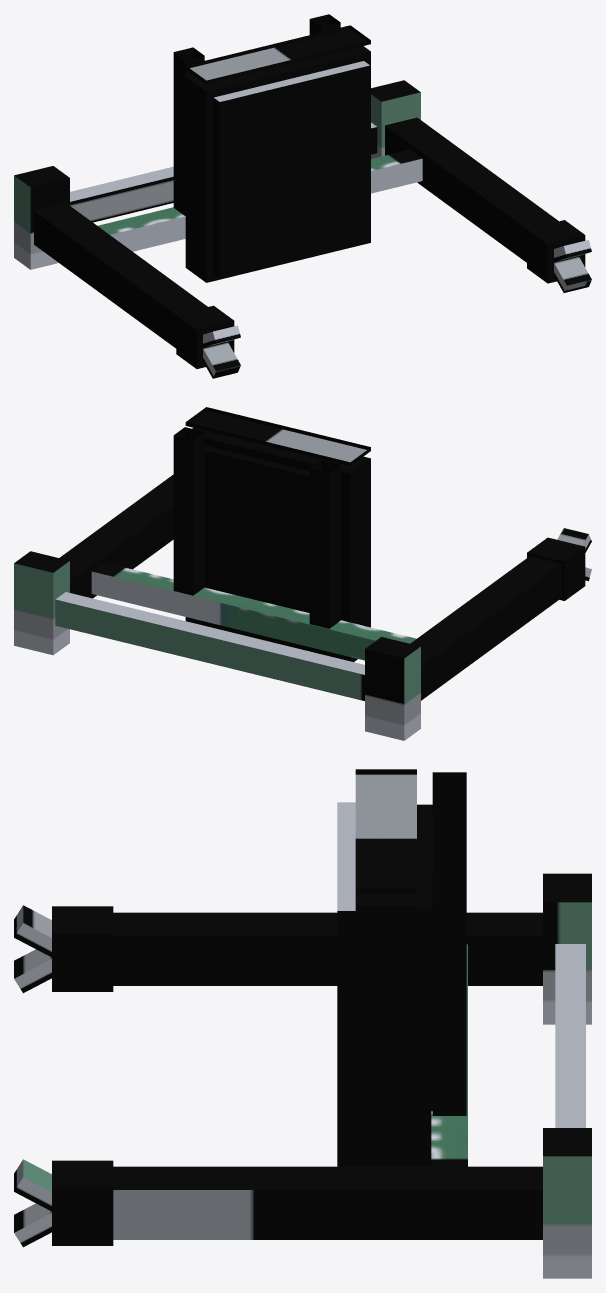
File: section-1.obj
3 renders of one model, top to bottom at view 1: azimuth 30°, elevation 25°; view 2: azimuth 150°, elevation 25°; view 3: azimuth 270°, elevation 25°, orthographic. The views are drawn at different scales.
Size of the model in its own units: 1.09 by 0.555 by 0.9421.
